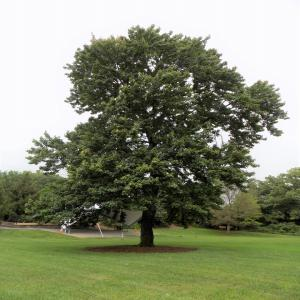Tree: (25, 22, 288, 246)
